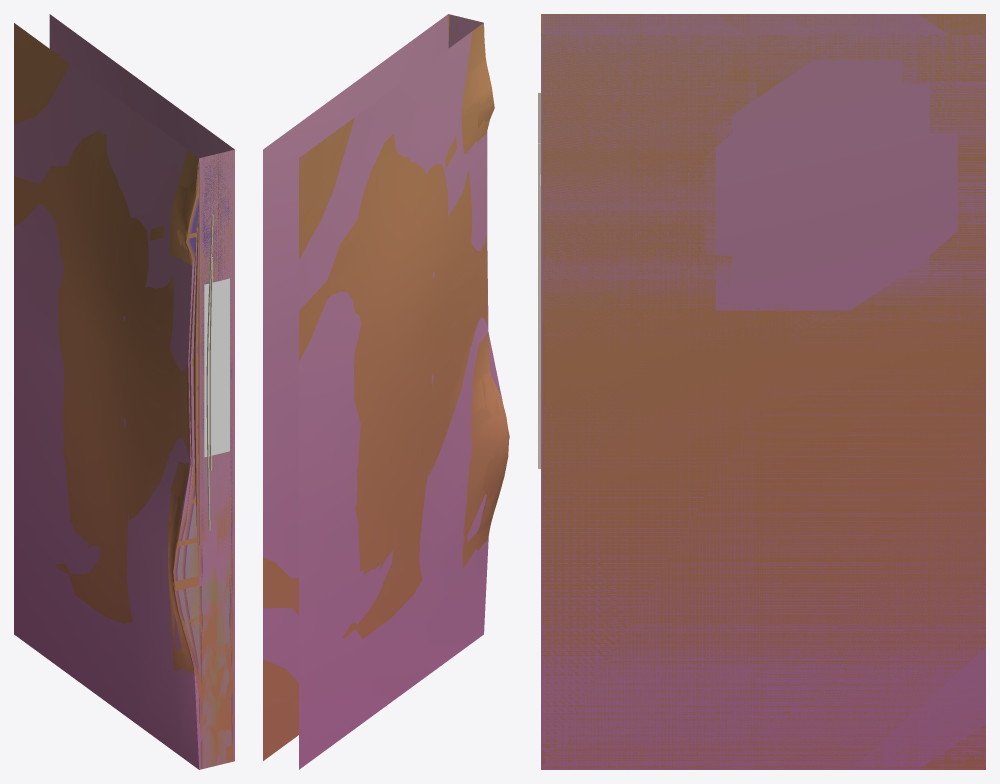
Rendered from Kit_DoorLeafBreak_Steel_DA_M2.fbx.
3 renders of one model, left to right at view 1: azimuth 30°, elevation 25°; view 2: azimuth 150°, elevation 25°; view 3: azimuth 270°, elevation 25°, orthographic. The views are drawn at different scales.
Parts seen in each view (by area): view 1: cas_TORN_L2, cas_TORN_L0, cas_TORN_L1, cas_D1_L2, cas_M_L1, cas_M_L0, cas_D2_L0, cas_D1_L0, cas_D1_L1, cas_D2_L2, cas_D2_L1, leak_D2 (+1 smaller); view 2: cas_TORN_L2, cas_TORN_L0, cas_TORN_L1; view 3: cas_D1_L2, cas_M_L0, cas_M_L1, cas_D2_L2, cas_D1_L1, leak_D1.
Part boxes in pixels (x1,y1,x2,y2): cas_TORN_L2: [14, 14, 234, 769]; cas_TORN_L0: [14, 31, 232, 768]; cas_TORN_L1: [14, 43, 218, 738]; cas_D1_L2: [14, 26, 234, 769]; cas_M_L1: [200, 149, 234, 761]; cas_M_L0: [200, 151, 233, 768]; cas_D2_L0: [182, 212, 231, 768]; cas_D1_L0: [14, 23, 233, 768]; cas_D1_L1: [14, 24, 233, 762]; cas_D2_L2: [14, 23, 234, 768]; cas_D2_L1: [182, 345, 229, 762]; leak_D2: [206, 214, 213, 530]; cas_TORN_L2: [263, 14, 509, 769]; cas_TORN_L0: [263, 18, 509, 752]; cas_TORN_L1: [263, 14, 508, 740]; cas_D1_L2: [541, 14, 985, 769]; cas_M_L0: [541, 14, 985, 769]; cas_M_L1: [540, 14, 985, 769]; cas_D2_L2: [851, 14, 985, 769]; cas_D1_L1: [919, 14, 985, 769]; leak_D1: [538, 143, 540, 398].
Size of the model in its own units: 0.0759 by 0.72 by 0.3975.
